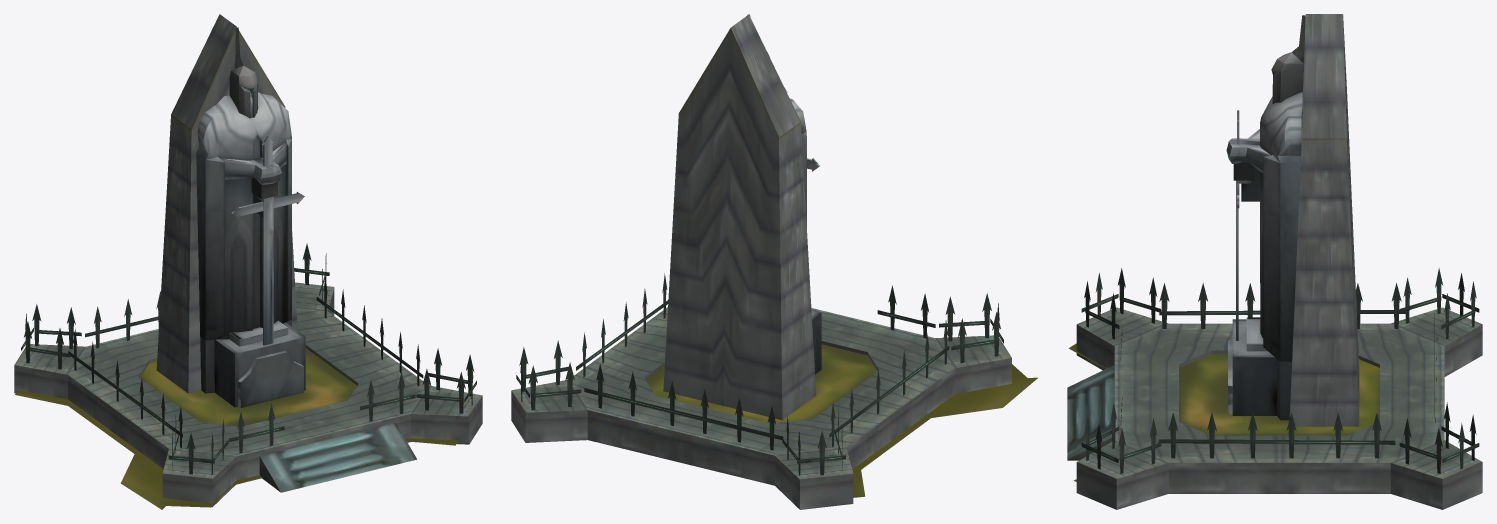
File: HeroTower_Level01.FBX
3 views of the same model, side by side, from view 1: azimuth 30°, elevation 25°; view 2: azimuth 150°, elevation 25°; view 3: azimuth 270°, elevation 25° (orthographic). The views are drawn at different scales.
Parts seen in each view (by area): view 1: HeroTower_Level01; view 2: HeroTower_Level01; view 3: HeroTower_Level01.
Part boxes in pixels (x1,y1,x2,y2): HeroTower_Level01: [14, 14, 482, 509]; HeroTower_Level01: [511, 14, 1037, 509]; HeroTower_Level01: [1067, 14, 1482, 509].
Bounding box in the file's own units: 798 × 845 × 776.
